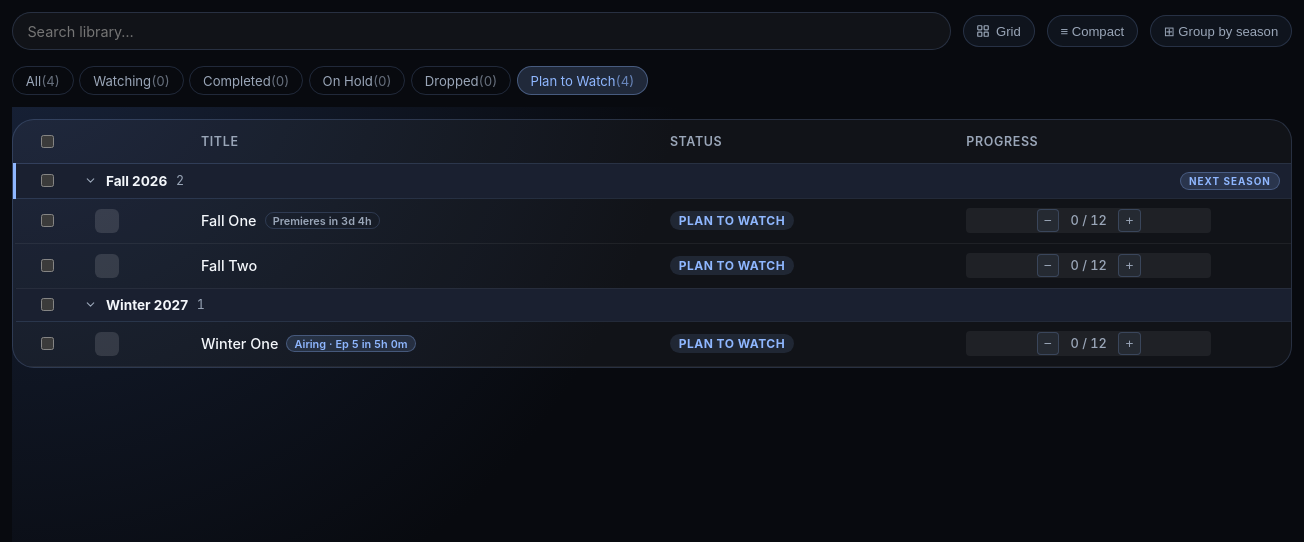
LibraryView selection › keeps a show that failed to delete, still selected, and says why in plain words
Click the checkbox named "Select all of Fall 2026": click(48, 181) [41,174,54,188]
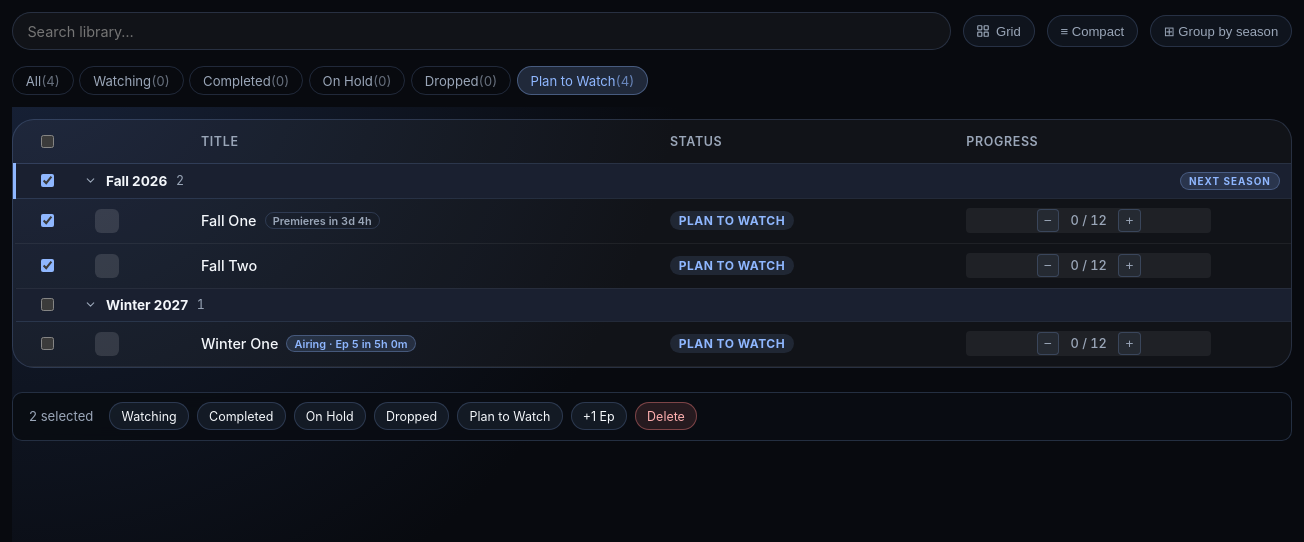
Click the button "Delete": click(666, 416) [635,402,697,430]
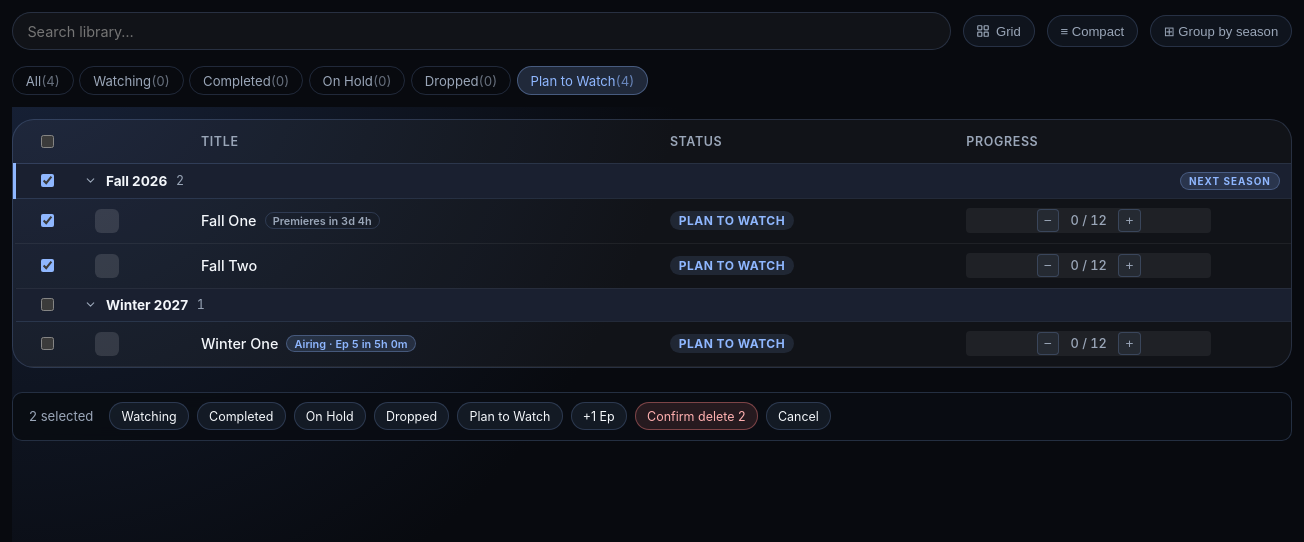
Click the button "Confirm delete 2": click(696, 416) [635,402,758,430]
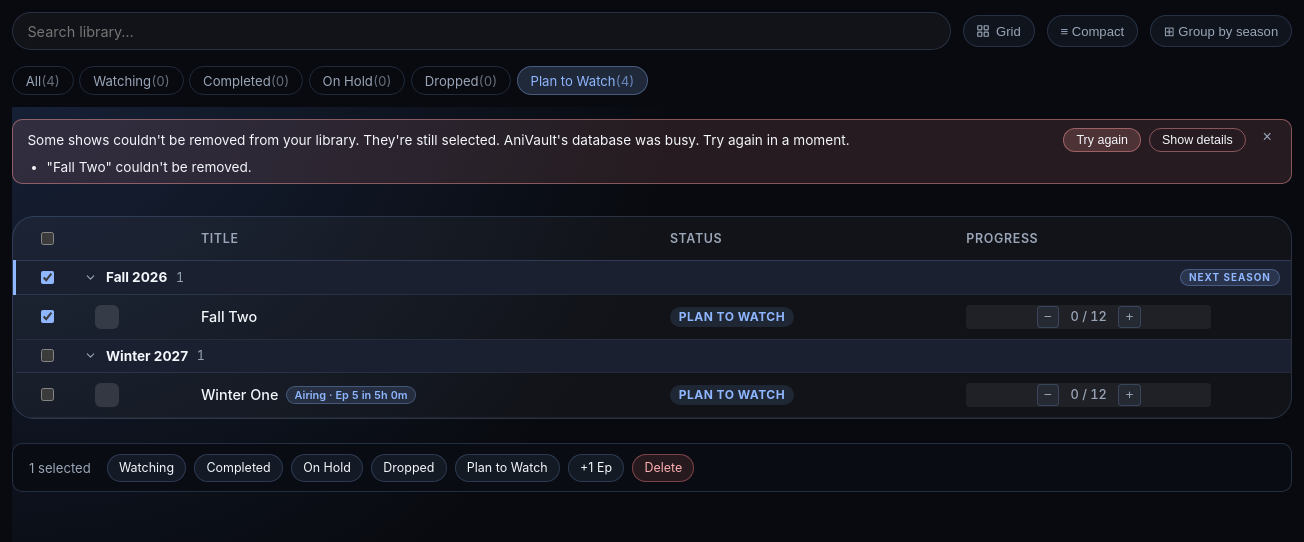
Check: the message with class "error-notice" shows "Some shows couldn't be removed from your library. They're still selected.", box [27,132,850,148]
Check: the message with class "error-notice" shows "\"Fall Two\" couldn't be removed.", box [47,159,252,175]
